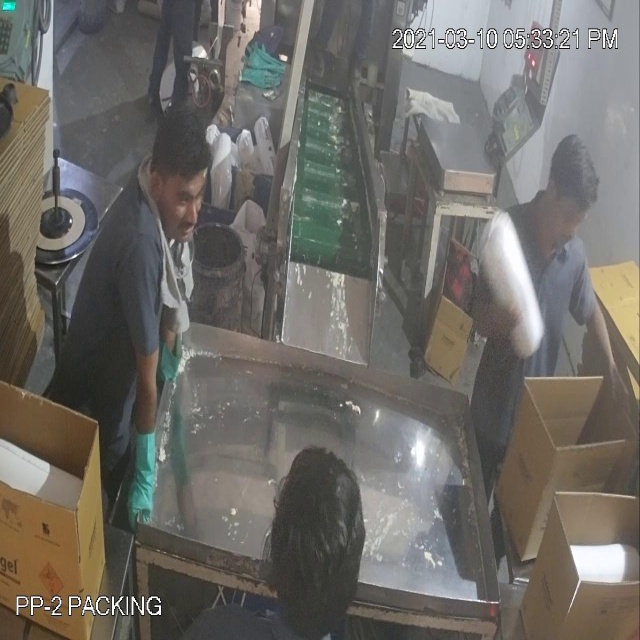Guantes: (122, 398, 161, 542)
Sin_guantes: (576, 282, 632, 415)
